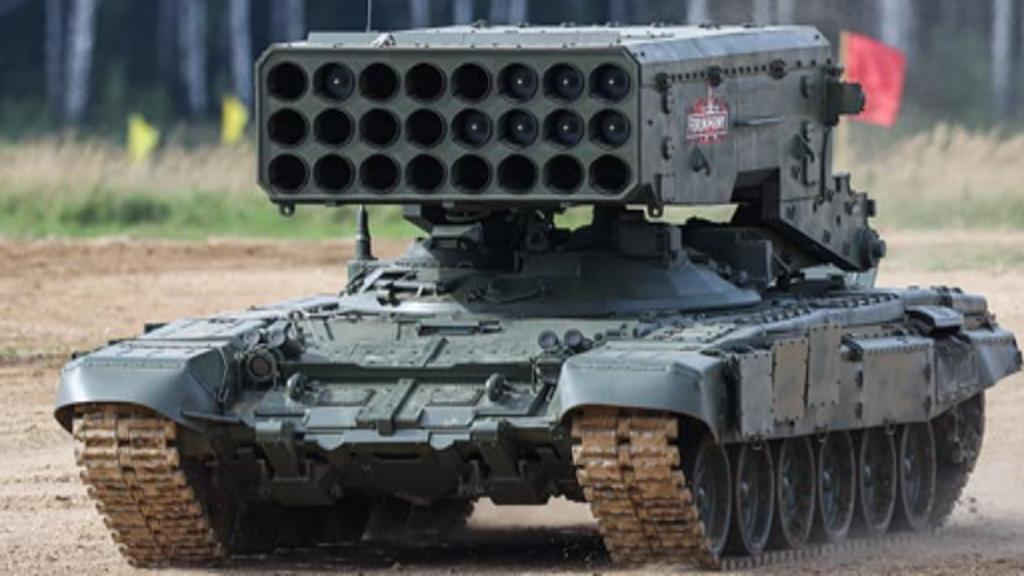MLRS: (56, 13, 1014, 571)
